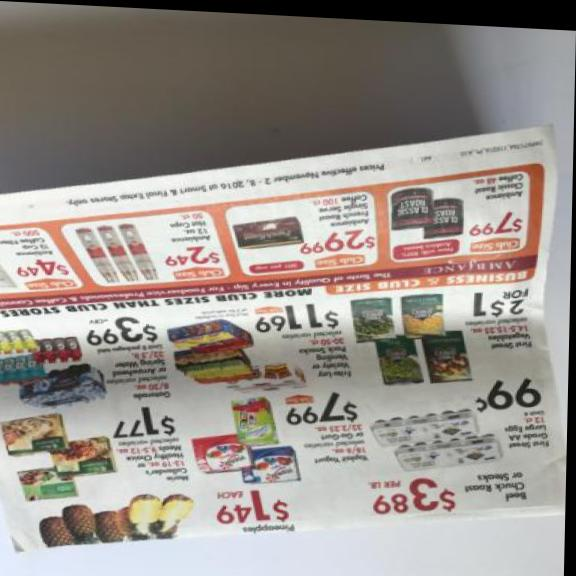Kertas: (0, 93, 574, 576)
